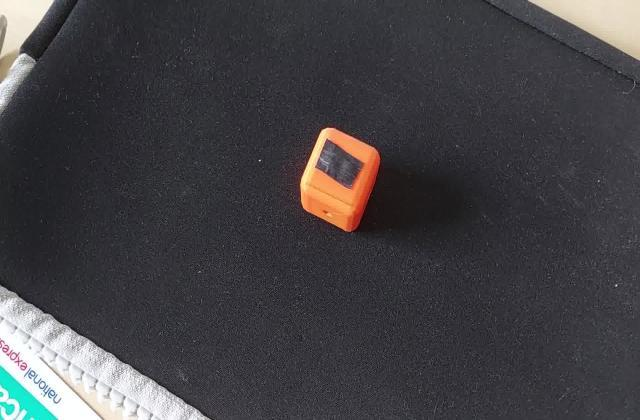black: (314, 146, 370, 190)
sticker: (298, 126, 386, 237)
